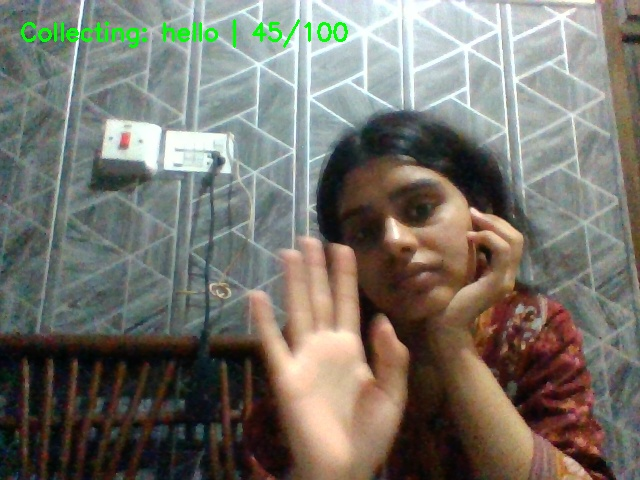hello: (239, 235, 415, 478)
